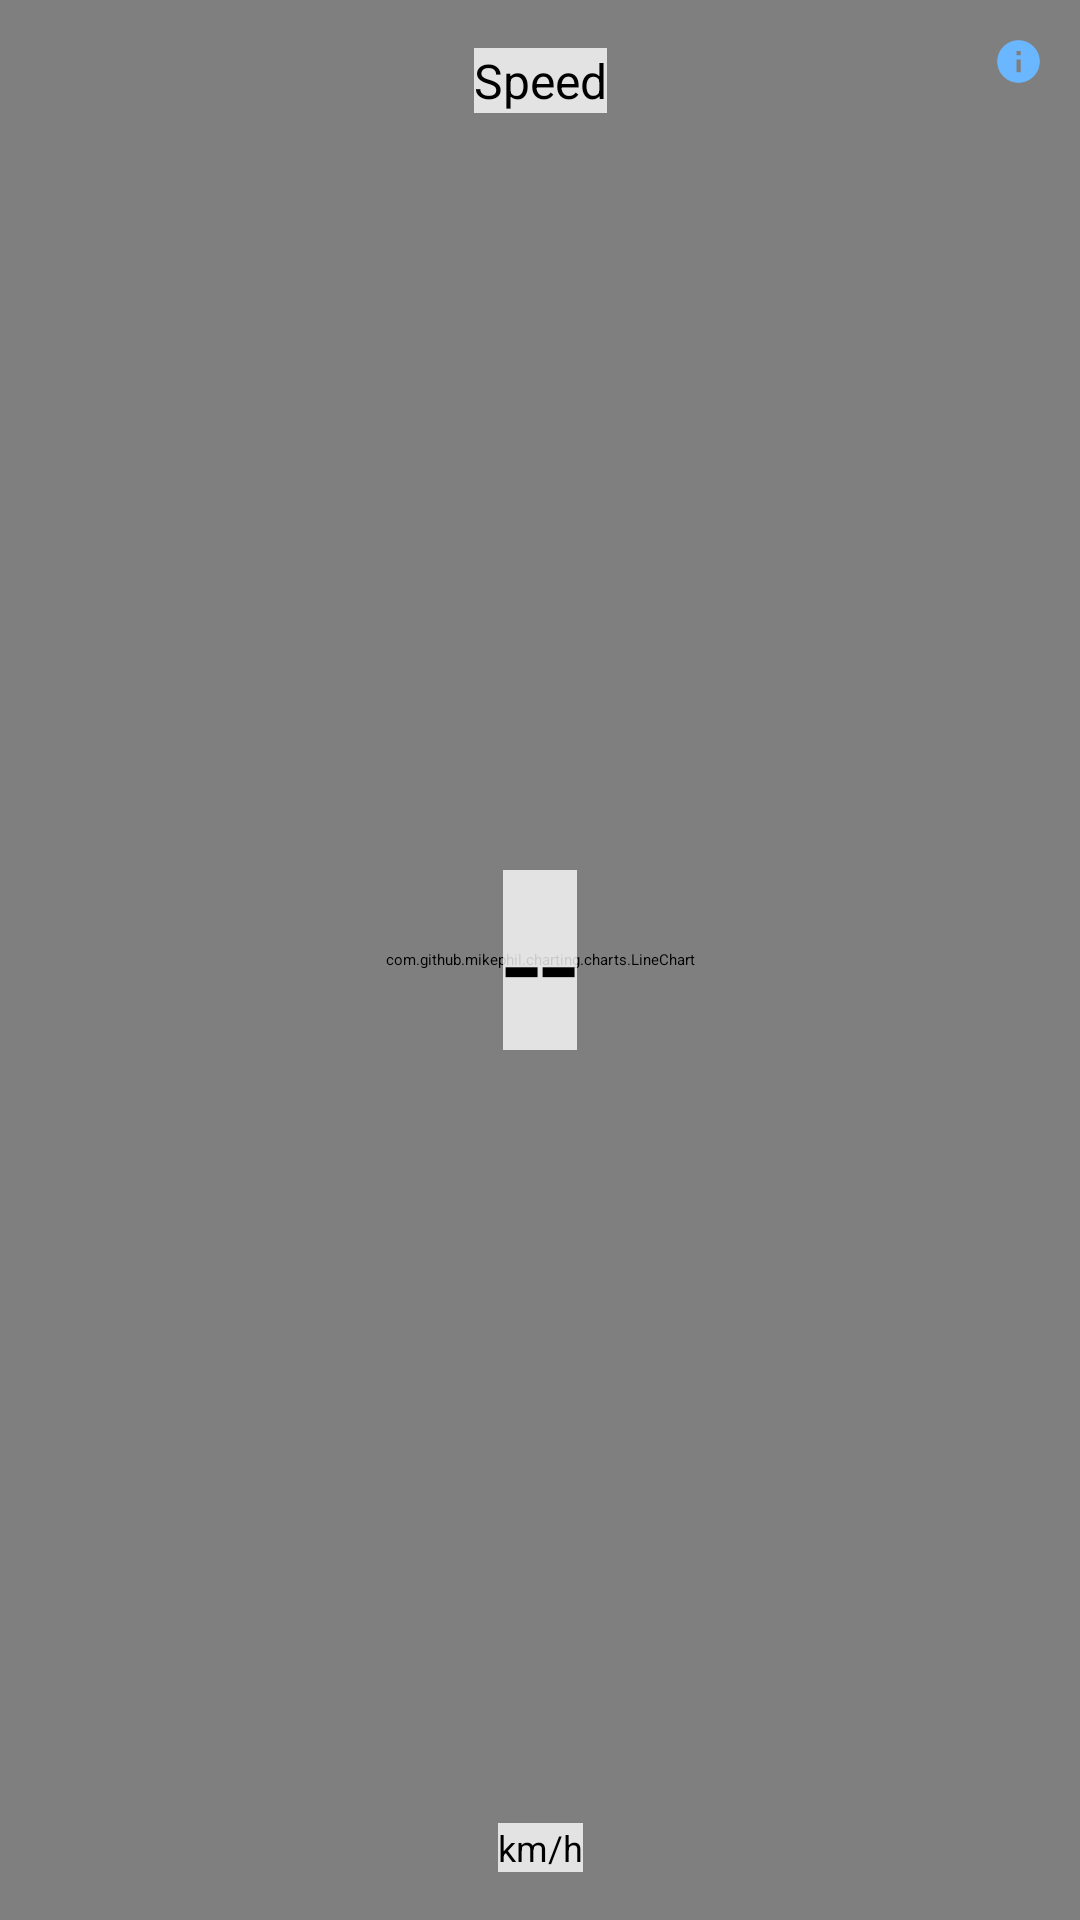

Where to tap for icons on this 1080x1920 app screen, as [x,y]:
about: [1018,61]
